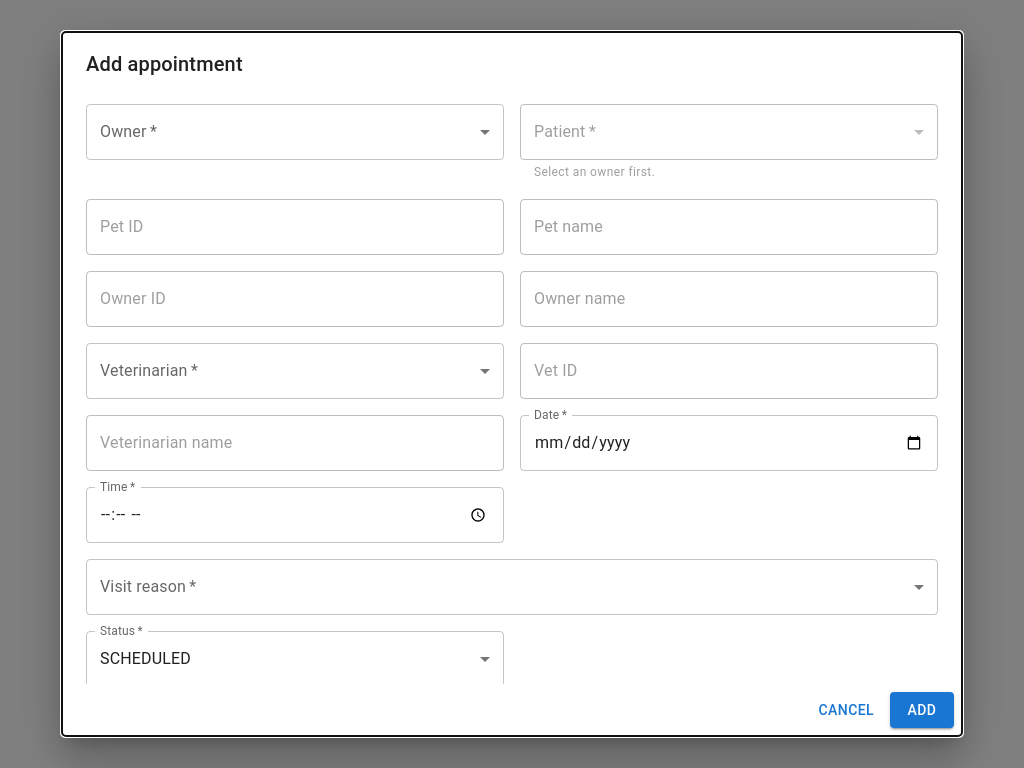
AddAppointmentDialog › requires an owner before a patient can be selected
Click the button "Add".
click(922, 710)  # box x1=890 y1=692 x2=954 y2=728
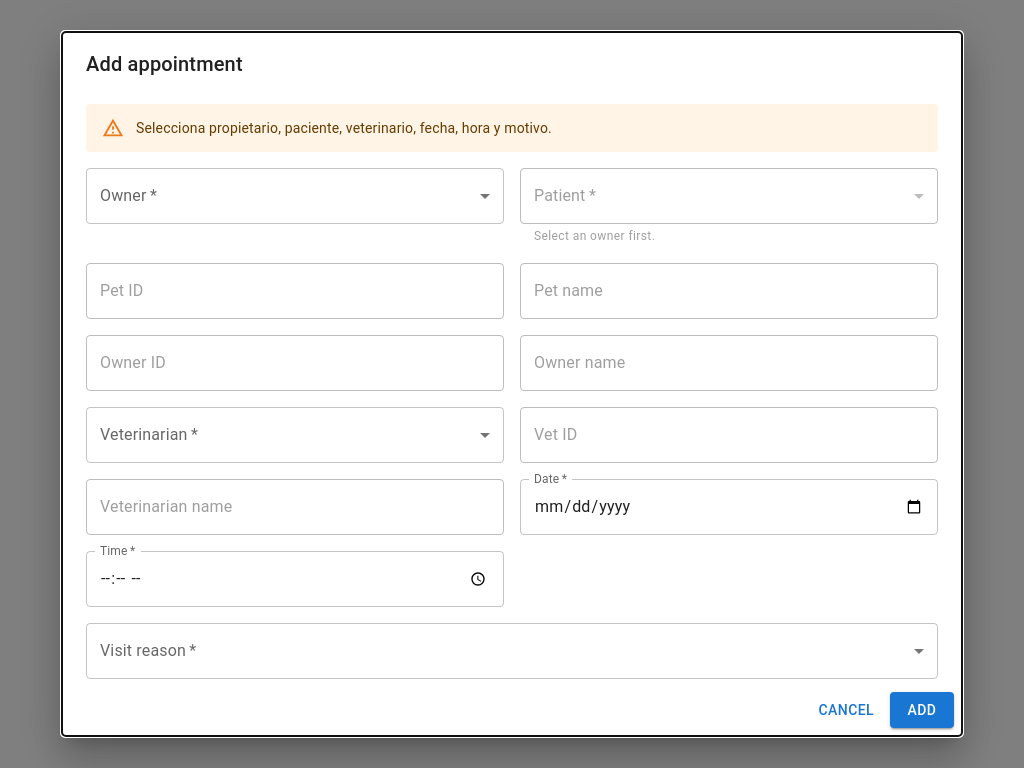
Expected: the text "Selecciona propietario, paciente, veterinario, fecha, hora y motivo." is shown, x1=136 y1=120 x2=552 y2=136
